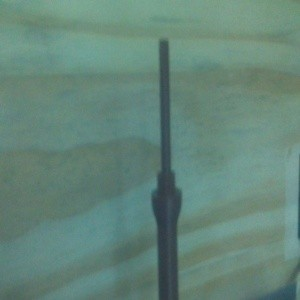obeng: (150, 37, 183, 300)
